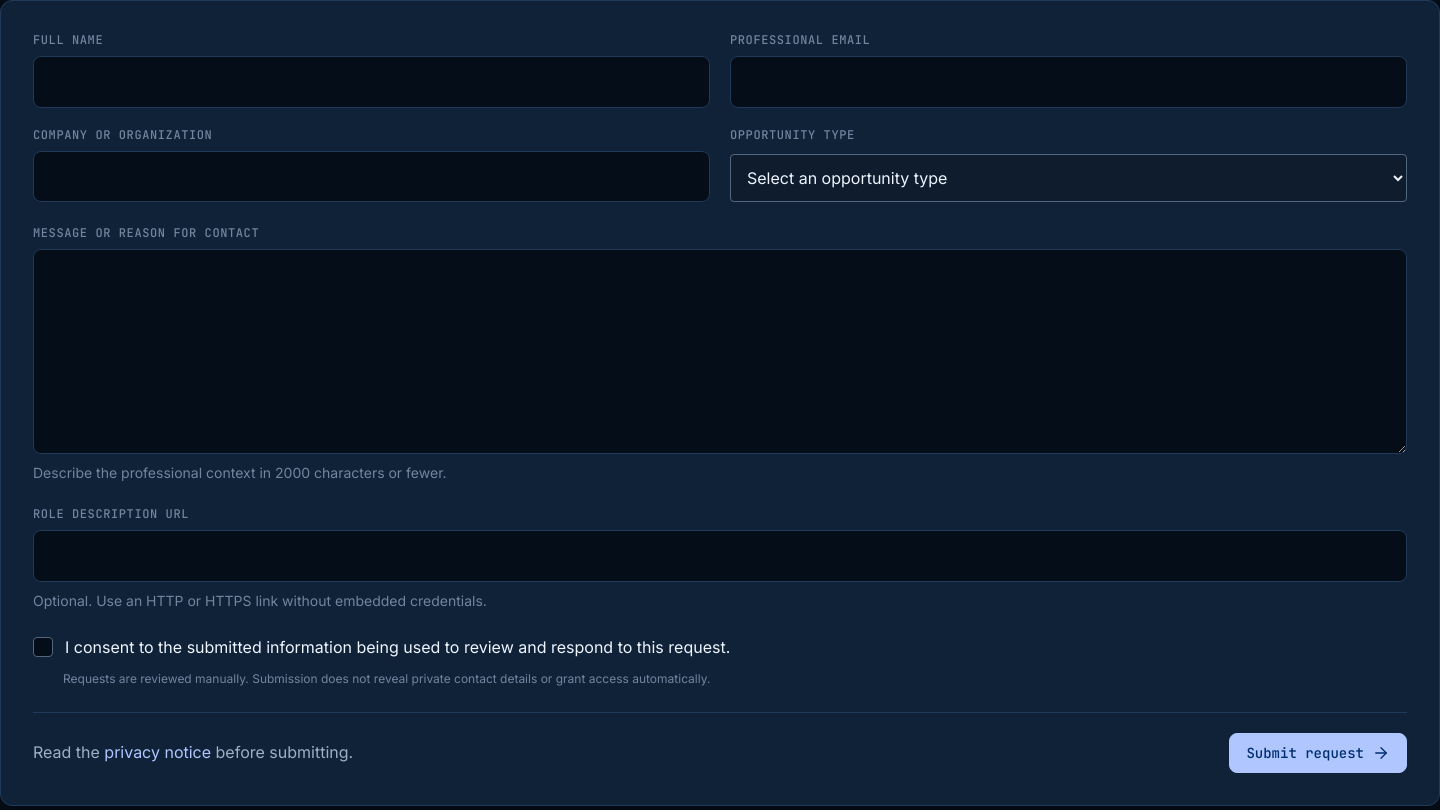
Test: contact request form states › renders the 429 failure response
The image size is (1440, 810).
Type "Jane Recruiter" into the field labelled "Full name".
click(372, 82); type("Jane Recruiter")  # box [33,56,710,108]
Type "jane@example.com" into the field labelled "Professional email".
click(1068, 82); type("jane@example.com")  # box [730,56,1407,108]
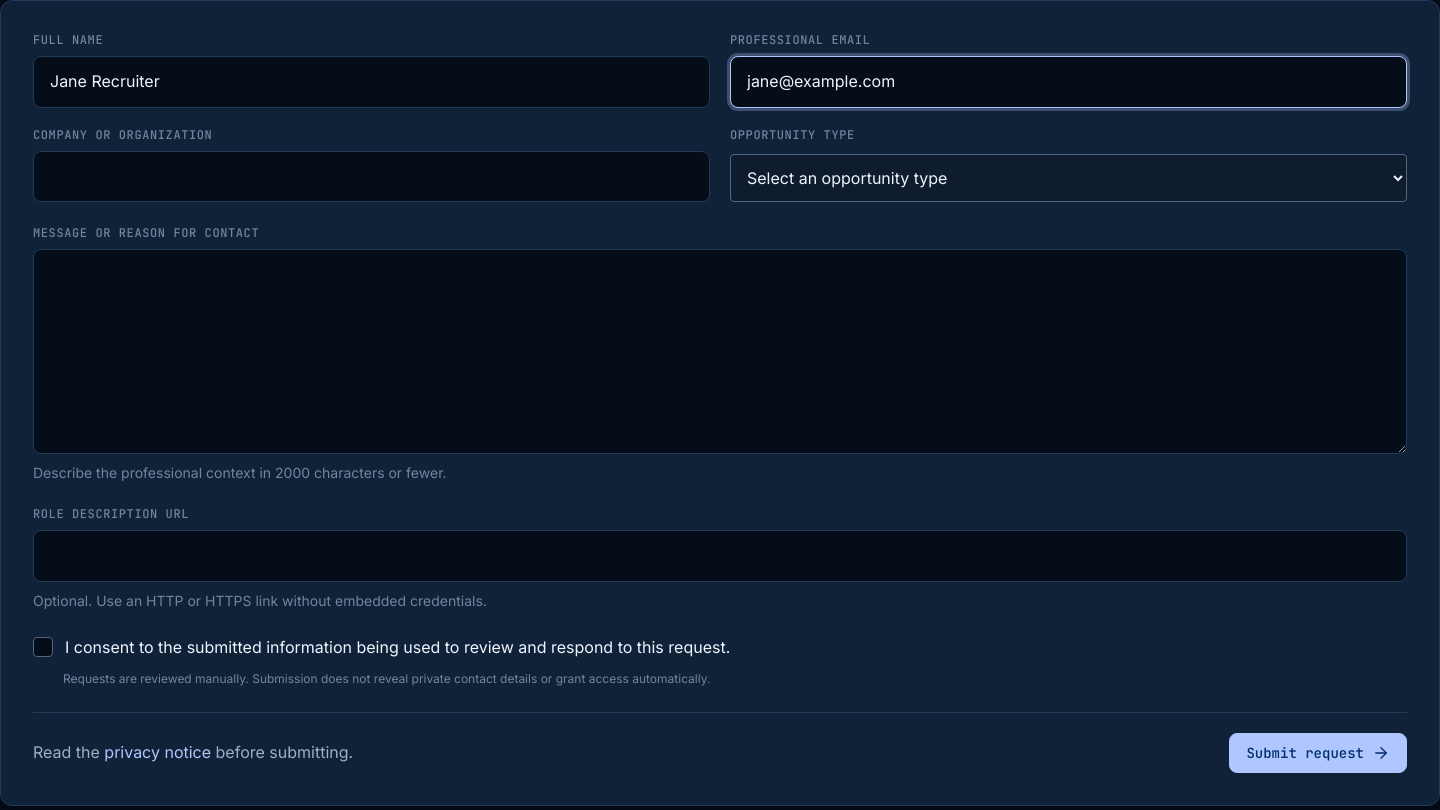
Type "Example Org" into the field labelled "Company or organization".
click(372, 176); type("Example Org")  # box [33,151,710,202]
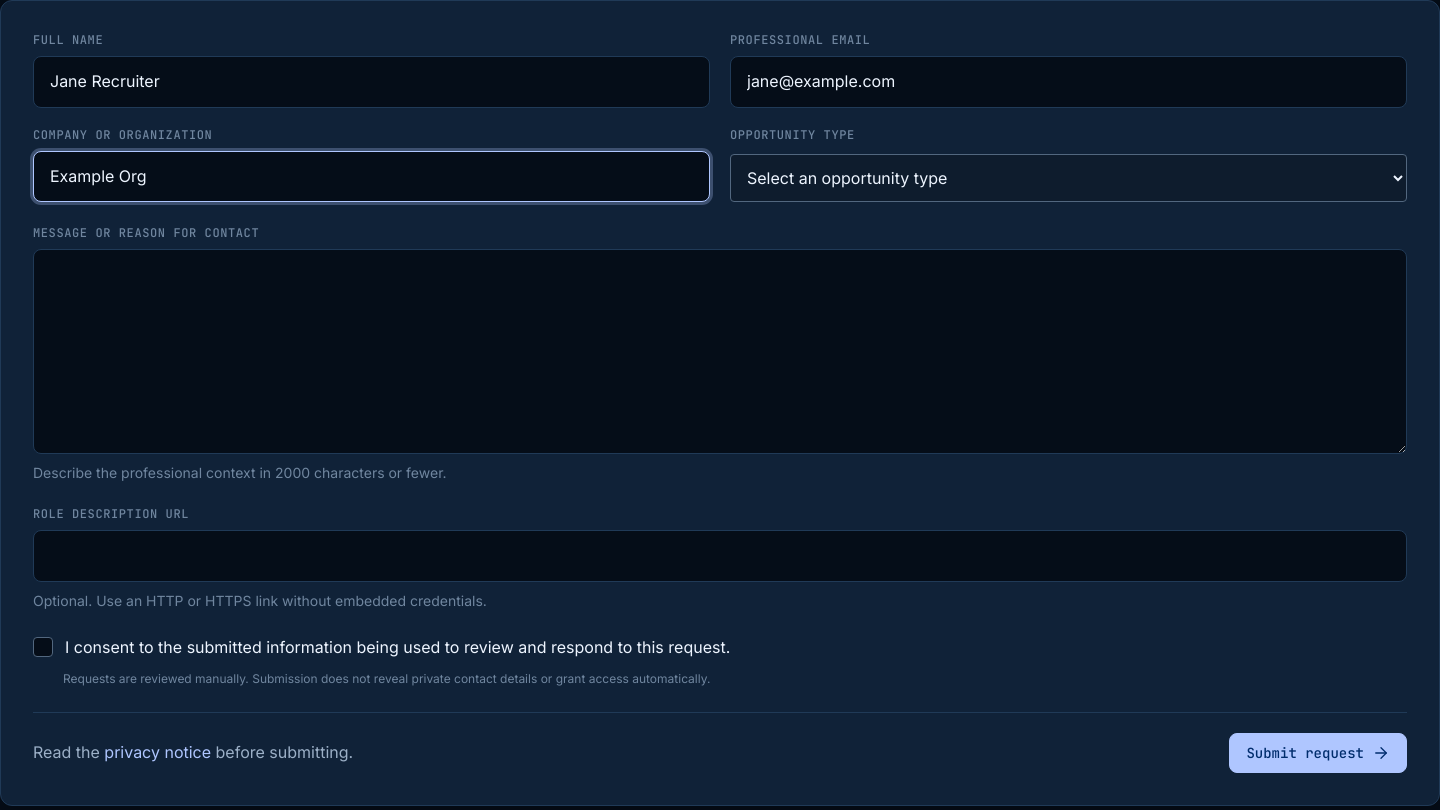
Select "Employment opportunity" in the dropdown labelled "Opportunity type" at [1068, 178], box [730,154,1407,202]
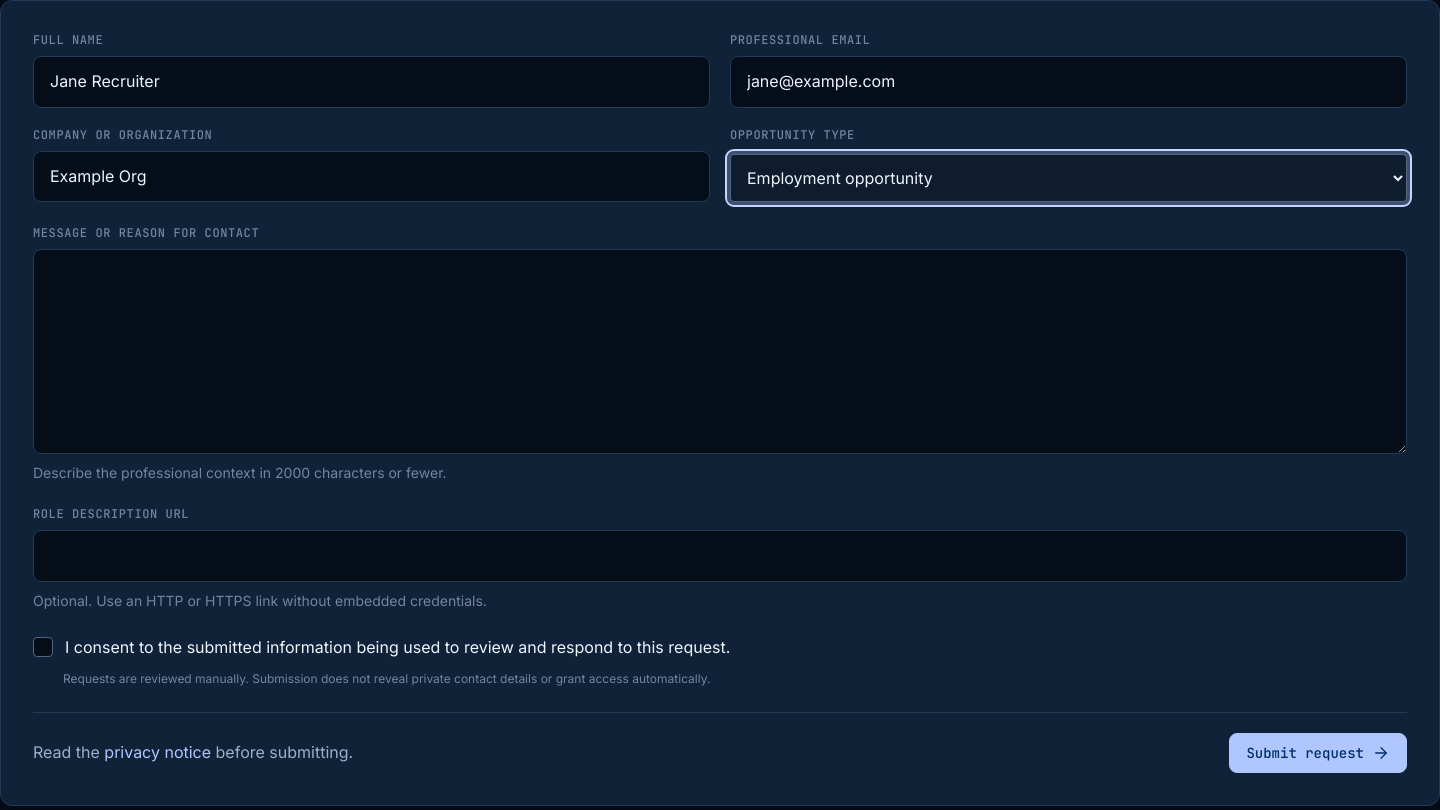
Type "I would like to discuss a relevant professional opportunity." into the text box labelled "Message or reason for contact".
click(720, 352); type("I would like to discuss a relevant professional opportunity.")  # box [33,249,1407,454]
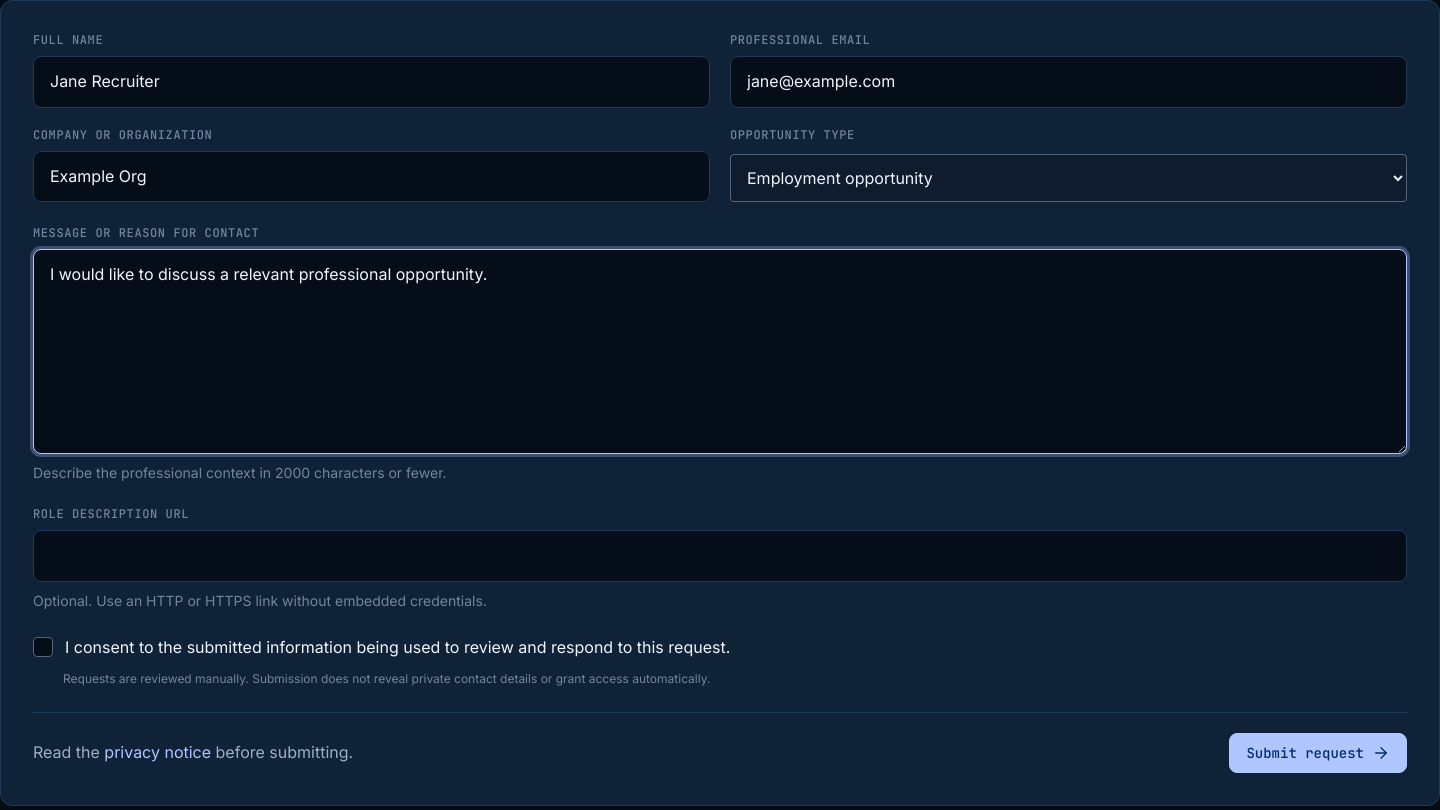
Click the checkbox.
click(382, 647)  # box [33,637,730,657]
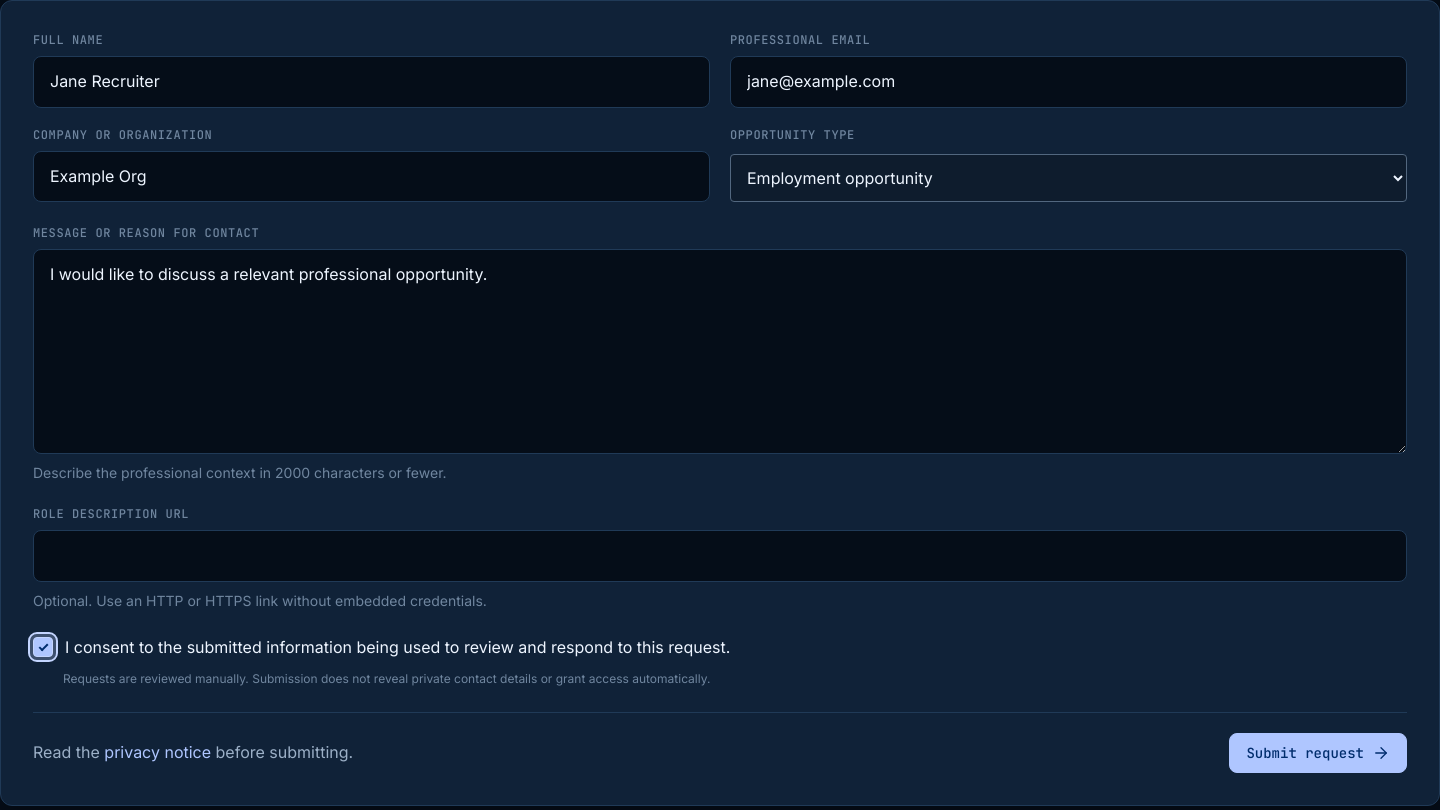
Click the button "Submit request".
click(1318, 753)  # box [1229,733,1407,773]
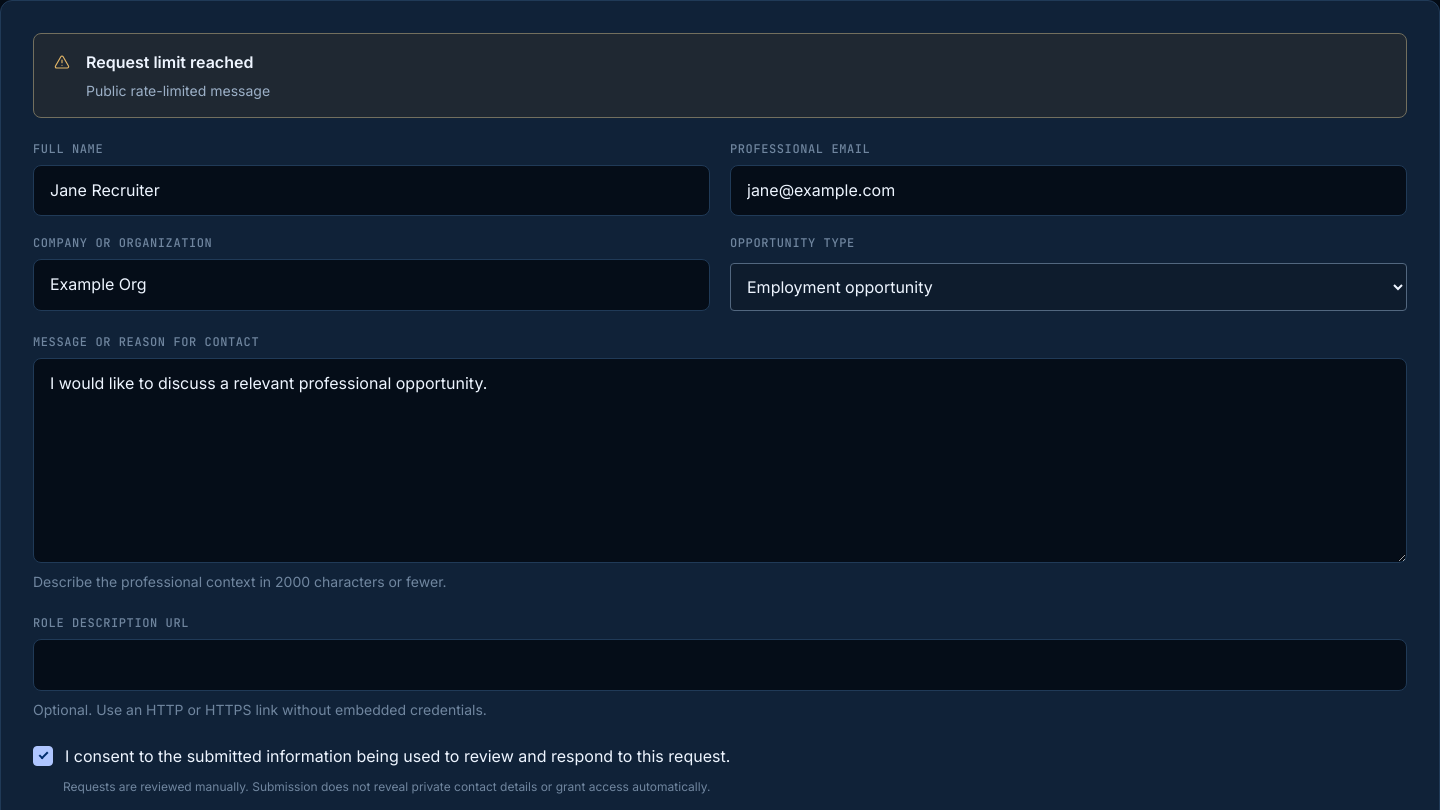
Now the text "Request limit reached" is shown, box [86,52,253,72]
